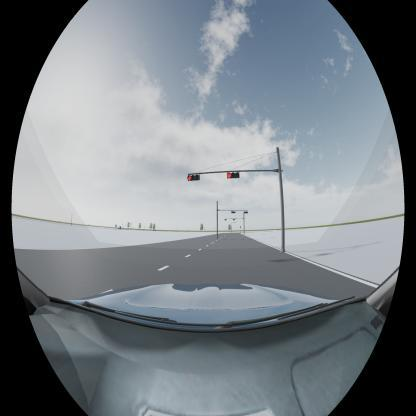Red Light: (187, 172, 200, 182), (227, 172, 240, 180)
